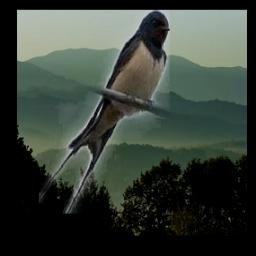Swallow: (39, 11, 170, 215)
